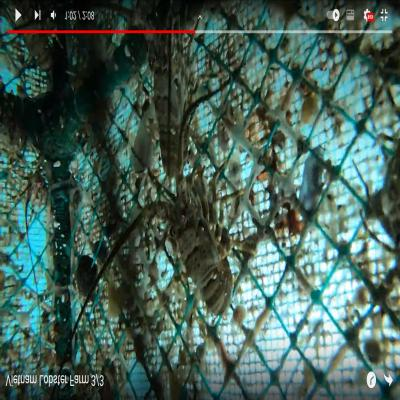lobster: (166, 182, 229, 319)
